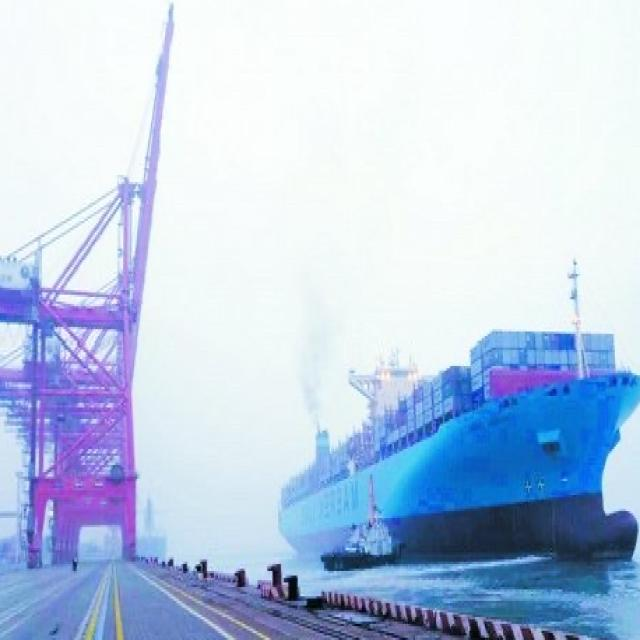cargoship: (275, 306, 640, 576)
houseboat: (325, 504, 405, 576)
